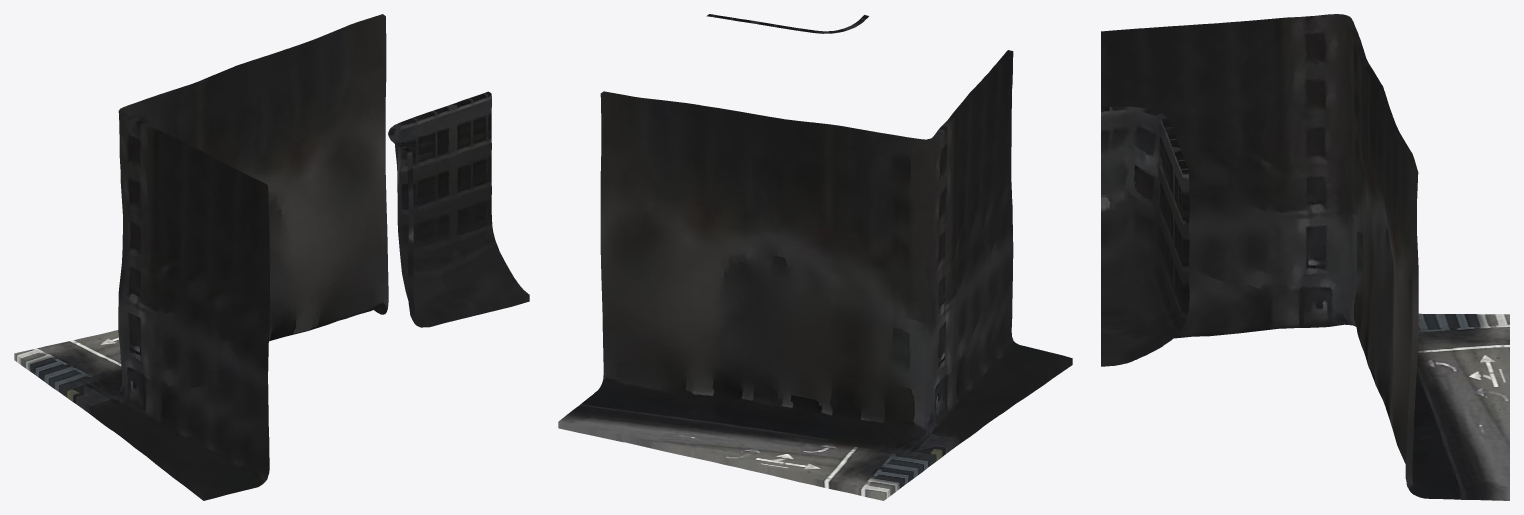
File: z20-167765-405236-h0-yup-uvflip-v3-world.glb
The picture shows the model from 3 angles, left to right: view 1: azimuth 30°, elevation 25°; view 2: azimuth 150°, elevation 25°; view 3: azimuth 270°, elevation 25°; orthographic projection. The views are drawn at different scales.
Size of the model in its own units: 30.16 by 26.92 by 30.32.
Materials: 1 (1 with a texture image).
